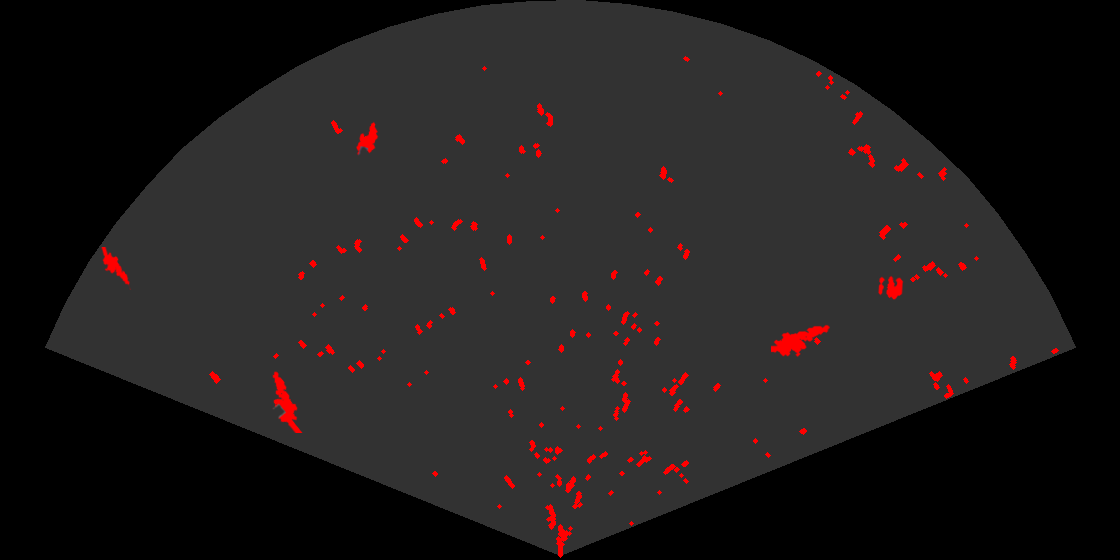AUV: (355, 120, 380, 156)
ball: (877, 274, 905, 301)
frogman: (771, 323, 830, 359), (271, 370, 304, 433), (100, 247, 132, 290)
